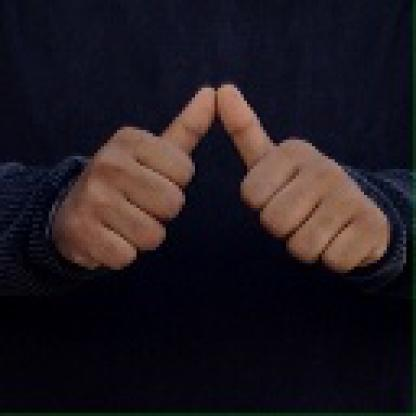A: (64, 79, 399, 280)
